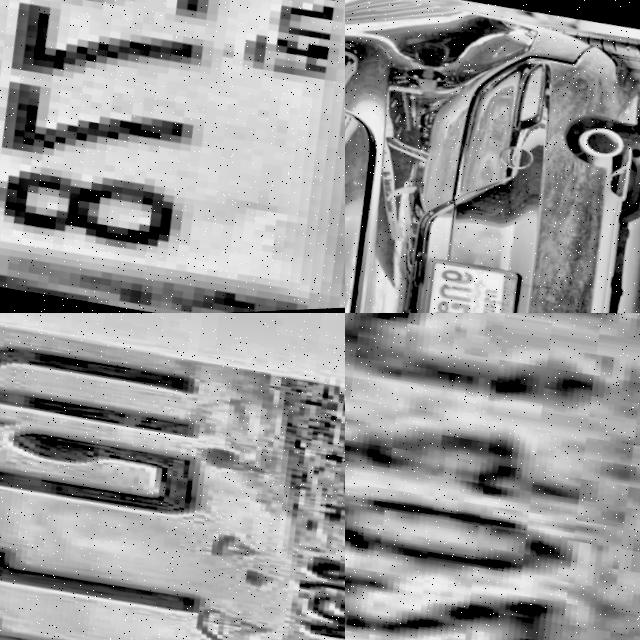license-plate: (0, 313, 345, 640), (0, 0, 345, 313), (345, 313, 640, 640), (385, 251, 531, 313)
